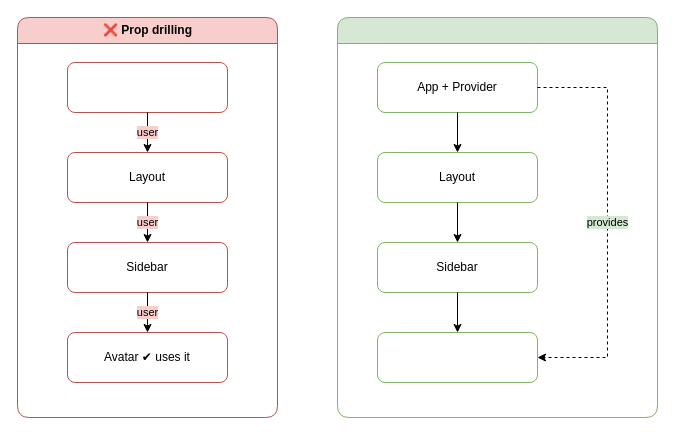
Image size: 675x435. Some labels were removed from this diagram. The box of each missing label's shape, as (x1, y1, x2, y2) in pixels:
App: user: (66, 62, 228, 112)
Avatar useAuth ✔: (376, 332, 538, 382)
✅ Context: (336, 16, 658, 418)
